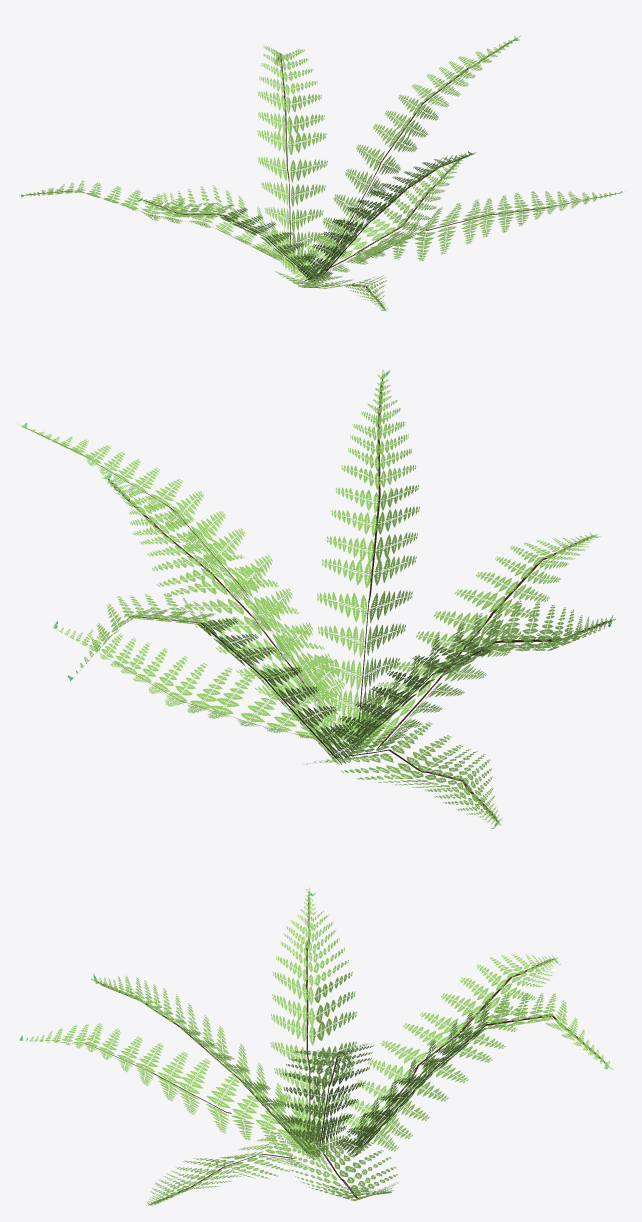
File: fern_6.fbx
3 renders of one model, top to bottom at view 1: azimuth 30°, elevation 25°; view 2: azimuth 150°, elevation 25°; view 3: azimuth 270°, elevation 25°, orthographic. The views are drawn at different scales.
Visible parts, largest first — view 1: fern_6; view 2: fern_6; view 3: fern_6.
Boxes of the visible parts, <box> form: fern_6: <box>19,36,625,311</box>; fern_6: <box>17,369,615,828</box>; fern_6: <box>19,887,613,1206</box>.
Size of the model in its own units: 458 by 194 by 426.
1 material, 1 textured.
